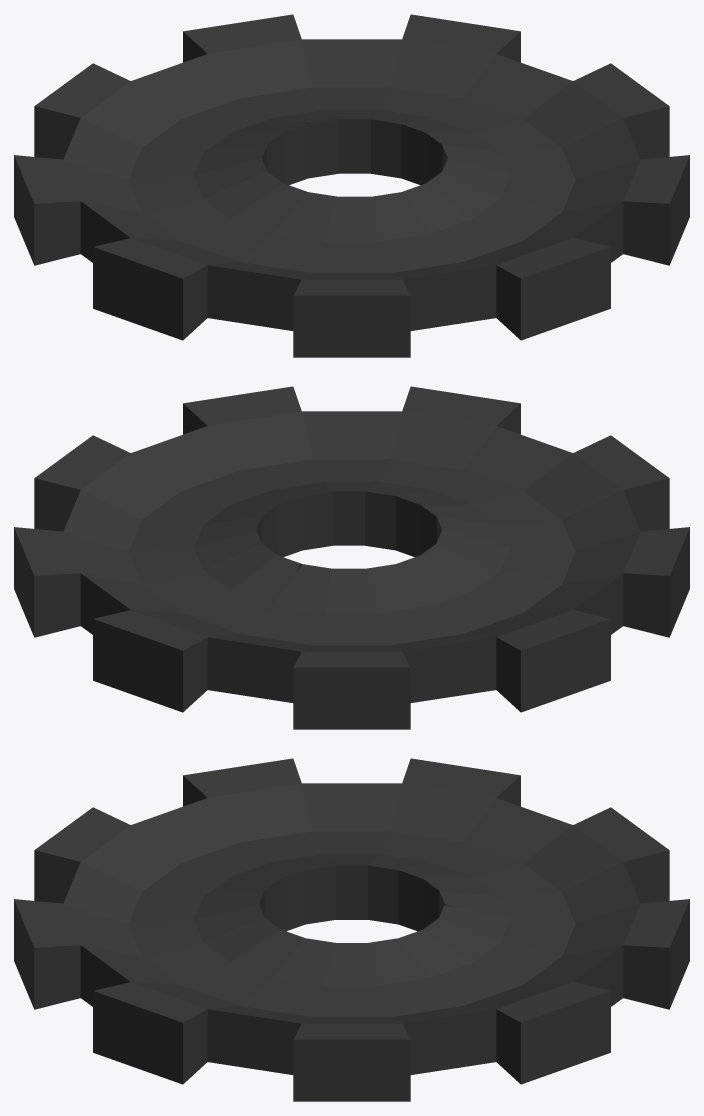
The model's file is rbsGear.fbx.
3 views of the same model, one above another, from view 1: azimuth 30°, elevation 25°; view 2: azimuth 150°, elevation 25°; view 3: azimuth 270°, elevation 25° (orthographic).
Parts seen in each view (by area): view 1: Cylinder; view 2: Cylinder; view 3: Cylinder.
Part boxes in pixels (bbox=[...]): Cylinder: bbox=[14, 14, 689, 357]; Cylinder: bbox=[14, 386, 689, 729]; Cylinder: bbox=[14, 758, 689, 1101].
Size of the model in its own units: 76.11 by 7.81 by 77.29.
